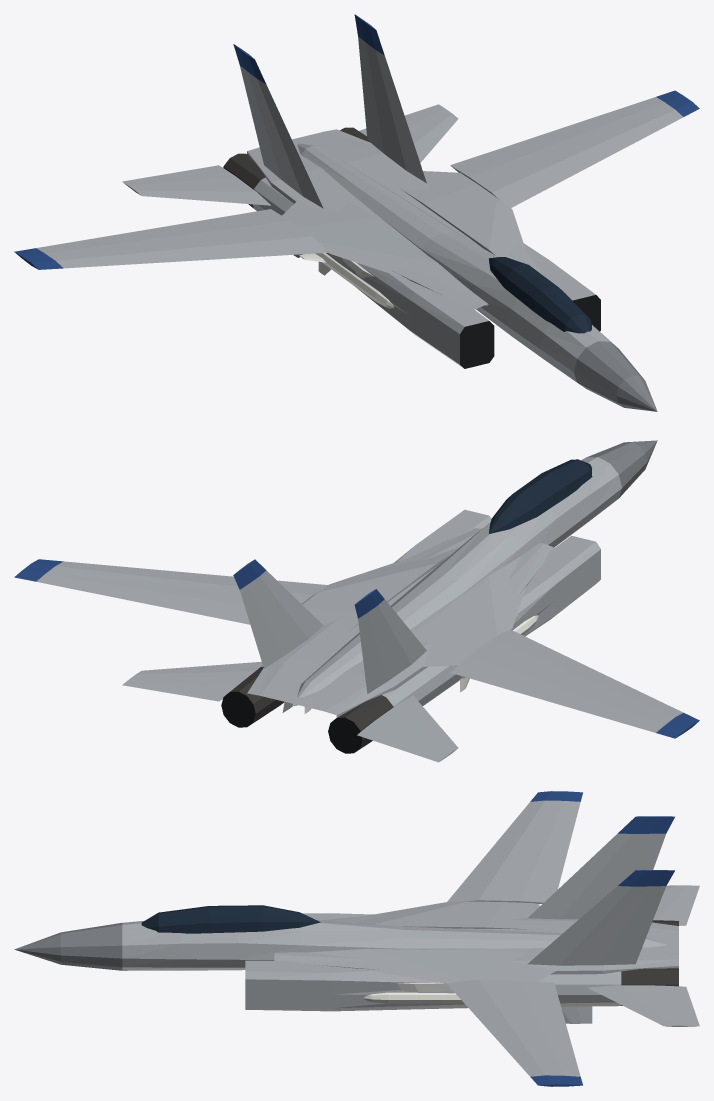
3 renders of one model, top to bottom at view 1: azimuth 30°, elevation 25°; view 2: azimuth 150°, elevation 25°; view 3: azimuth 270°, elevation 25°, orthographic. The views are drawn at different scales.
Visible parts, largest first — view 1: nf24; view 2: nf24; view 3: nf24.
Part boxes in pixels (x1,y1,x2,y2): nf24: (14, 14, 699, 411); nf24: (14, 440, 699, 762); nf24: (14, 791, 699, 1086).
Bounding box in the file's own units: 19.2 × 4.74 × 18.98.
